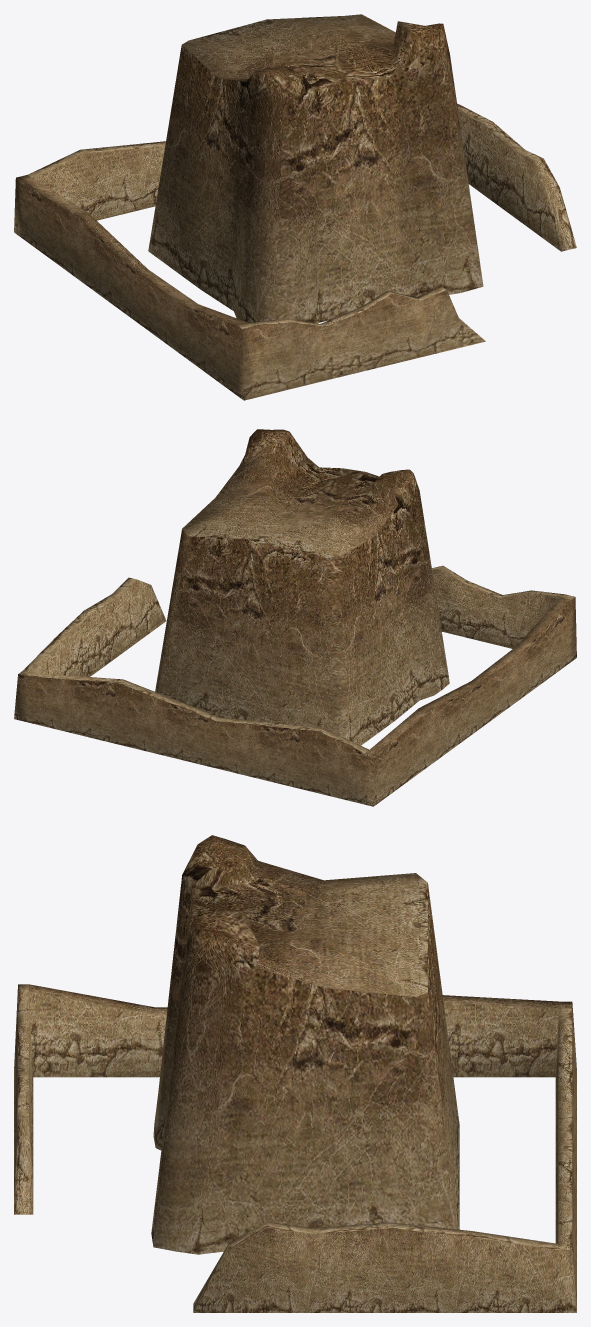
The model's file is w_cd_gtower00.glb.
3 views of the same model, one above another, from view 1: azimuth 30°, elevation 25°; view 2: azimuth 150°, elevation 25°; view 3: azimuth 270°, elevation 25° (orthographic). The views are drawn at different scales.
Parts seen in each view (by area): view 1: w_cd_gtower00; view 2: w_cd_gtower00; view 3: w_cd_gtower00.
Boxes of the visible parts, <box> form: w_cd_gtower00: <box>14,14,576,400</box>; w_cd_gtower00: <box>14,429,576,806</box>; w_cd_gtower00: <box>14,835,576,1312</box>.
Bounding box in the file's own units: 22.19 × 13.07 × 21.75.
Materials: 1 (1 with a texture image).
